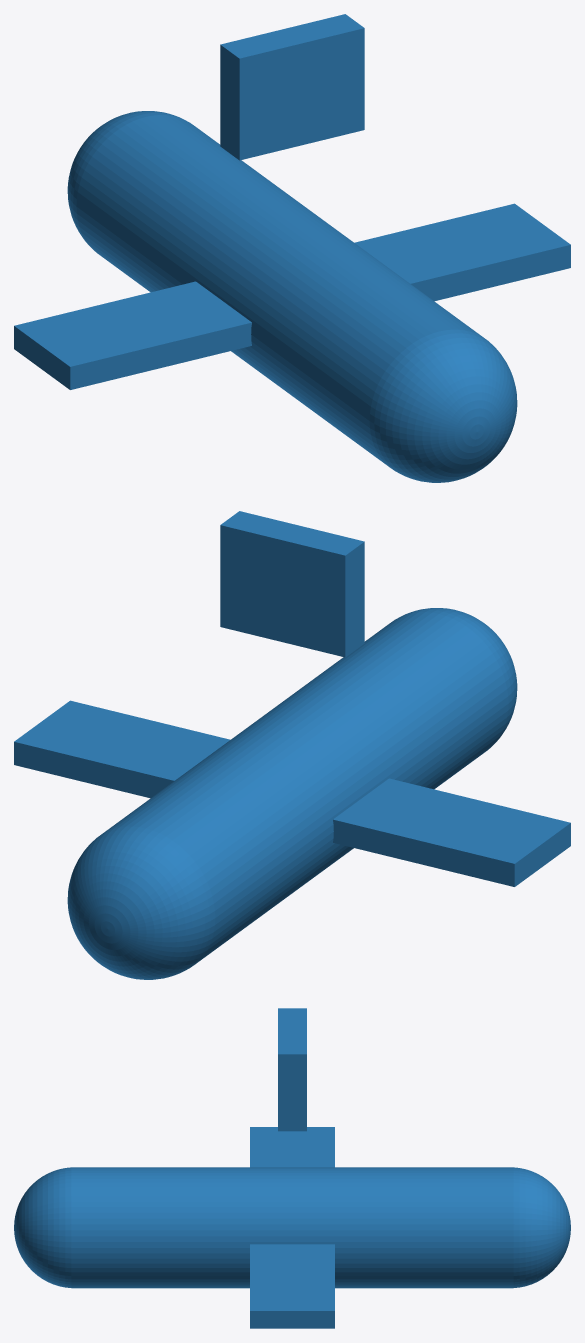
The model's file is tech_125.glb.
3 views of the same model, one above another, from view 1: azimuth 30°, elevation 25°; view 2: azimuth 150°, elevation 25°; view 3: azimuth 270°, elevation 25° (orthographic). The views are drawn at different scales.
Visible parts, largest first — view 1: world; view 2: world; view 3: world.
Part boxes in pixels (x1=…): world: x1=14, y1=14, x2=570, y2=482; world: x1=14, y1=511, x2=570, y2=979; world: x1=14, y1=1008, x2=570, y2=1328.
Bounding box in the file's own units: 1.8 × 1.14 × 2.3.
